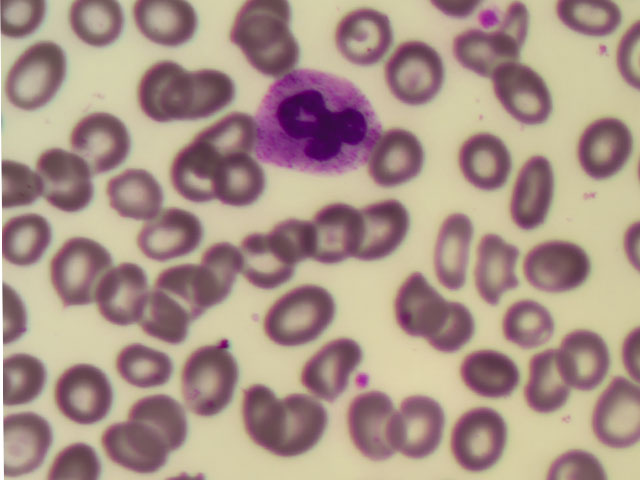Platelets: (477, 7, 502, 28), (354, 373, 372, 389)
RBC: (7, 46, 68, 110), (70, 108, 131, 172), (37, 143, 98, 207), (10, 207, 71, 271), (46, 235, 107, 299), (86, 256, 147, 320), (131, 284, 192, 348), (158, 261, 219, 325), (131, 197, 192, 261), (116, 175, 177, 239), (169, 139, 230, 203), (197, 100, 258, 164), (215, 155, 276, 219), (173, 65, 234, 129), (131, 51, 192, 115), (135, 3, 196, 67), (233, 17, 294, 81), (325, 7, 386, 71), (384, 40, 445, 104), (495, 63, 556, 127), (456, 29, 517, 93), (577, 116, 638, 180), (499, 160, 560, 224), (457, 130, 518, 194), (378, 129, 439, 193), (358, 195, 419, 259), (311, 202, 372, 266), (278, 209, 339, 273), (251, 225, 312, 289), (202, 237, 263, 301), (267, 280, 328, 344), (295, 328, 356, 392), (273, 393, 334, 457), (235, 383, 296, 447), (183, 345, 244, 409), (131, 388, 192, 452), (96, 415, 157, 479), (50, 363, 111, 427), (106, 339, 167, 403), (4, 415, 65, 479), (345, 395, 406, 459), (379, 386, 440, 450), (447, 402, 508, 466), (466, 345, 527, 409), (518, 352, 579, 416), (554, 329, 615, 393), (579, 383, 640, 447), (502, 293, 563, 357), (433, 297, 494, 361), (395, 271, 456, 335), (425, 216, 486, 280), (464, 231, 525, 295), (524, 238, 585, 302), (69, 1, 130, 64), (559, 1, 622, 41)
WBC: (253, 70, 382, 175)
